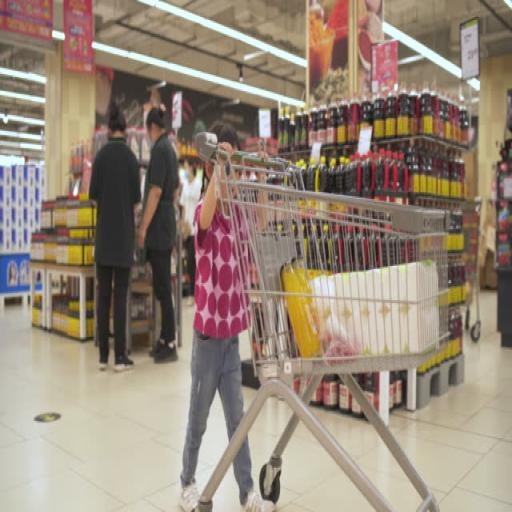shopping_cart: (191, 129, 449, 512)
